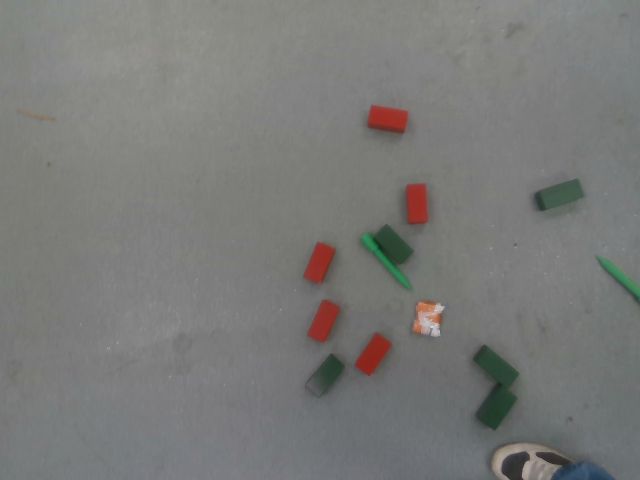Probe: (359, 232, 415, 292), (592, 252, 640, 301)
